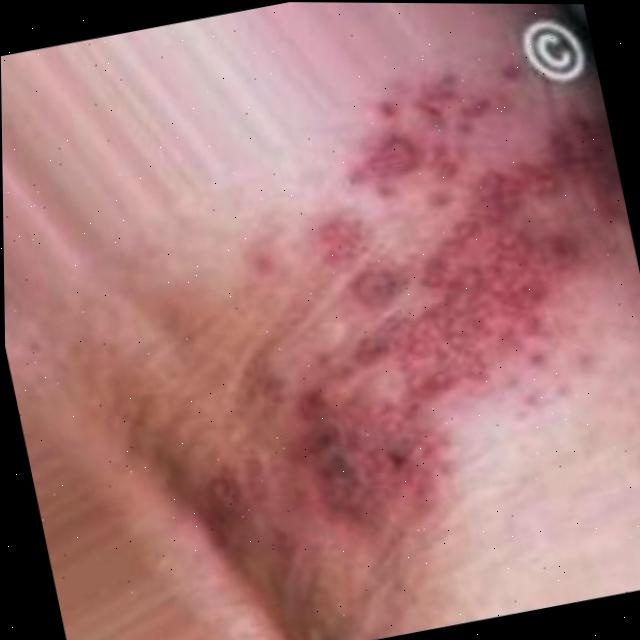Shingles: (239, 78, 640, 523)
